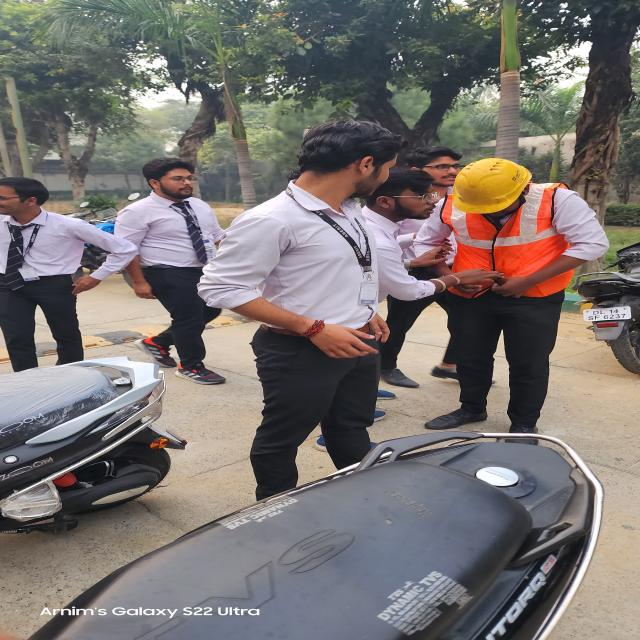safe: (430, 162, 598, 437)
unsafe: (200, 116, 393, 482), (101, 154, 234, 380), (4, 170, 123, 366)
